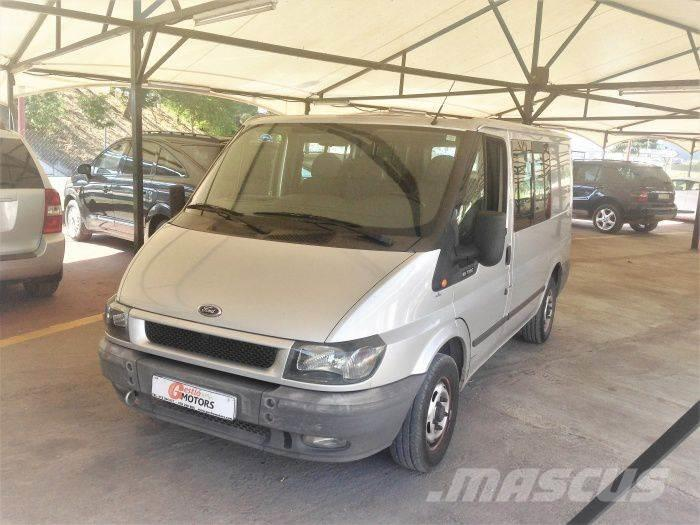van: (95, 109, 571, 471)
